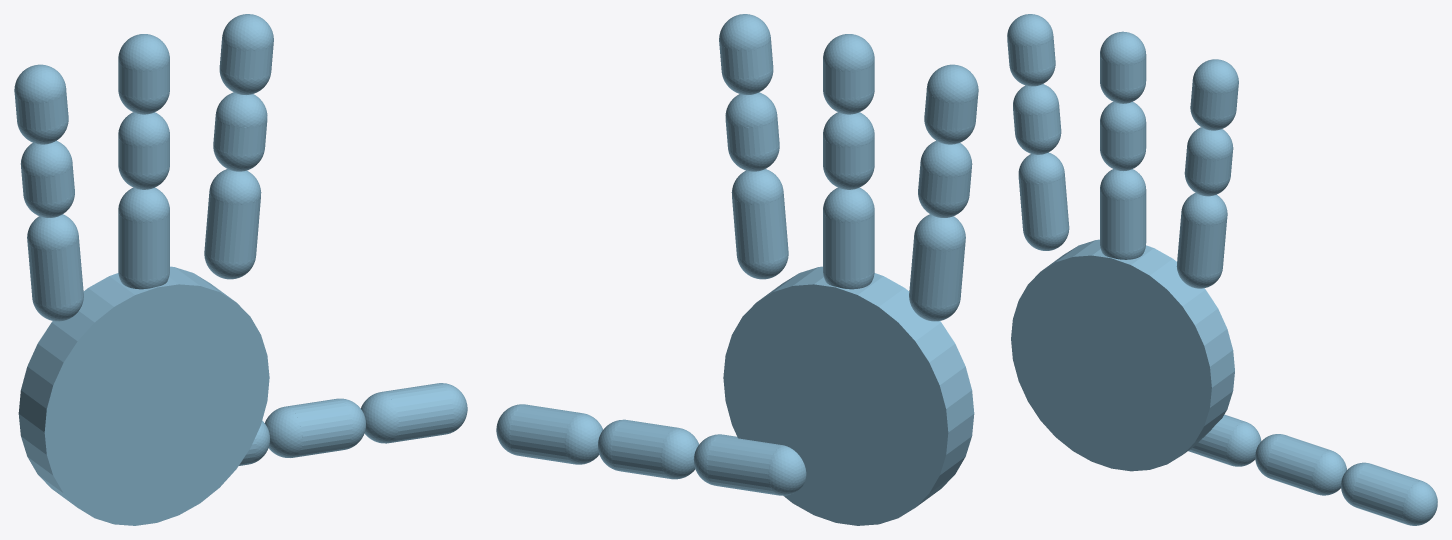
Rendered from allegro_hand_right_canonical.glb.
3 renders of one model, left to right at view 1: azimuth 30°, elevation 25°; view 2: azimuth 150°, elevation 25°; view 3: azimuth 330°, elevation 25°, orthographic. The views are drawn at different scales.
Parts seen in each view (by area): view 1: world; view 2: world; view 3: world.
Part boxes in pixels (x1,y1,x2,y2): world: [14, 14, 467, 525]; world: [496, 14, 978, 525]; world: [1007, 14, 1437, 525].
Size of the model in its own units: 0.2457 by 0.2462 by 0.0374.
